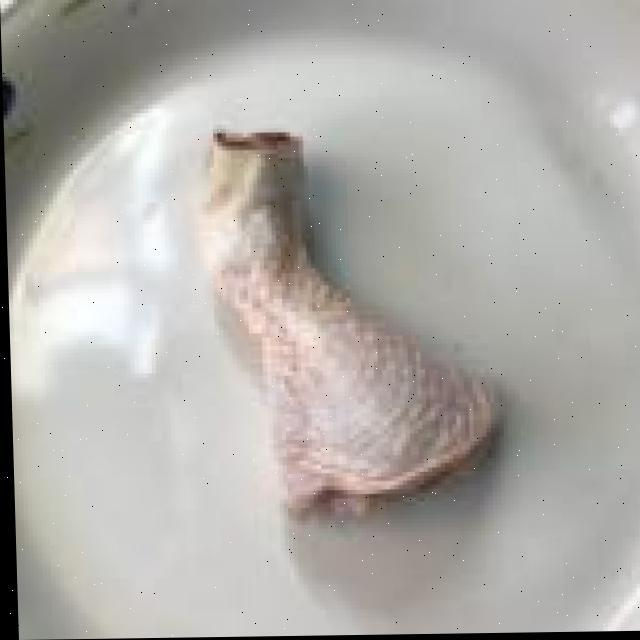leg: (193, 123, 502, 522)
